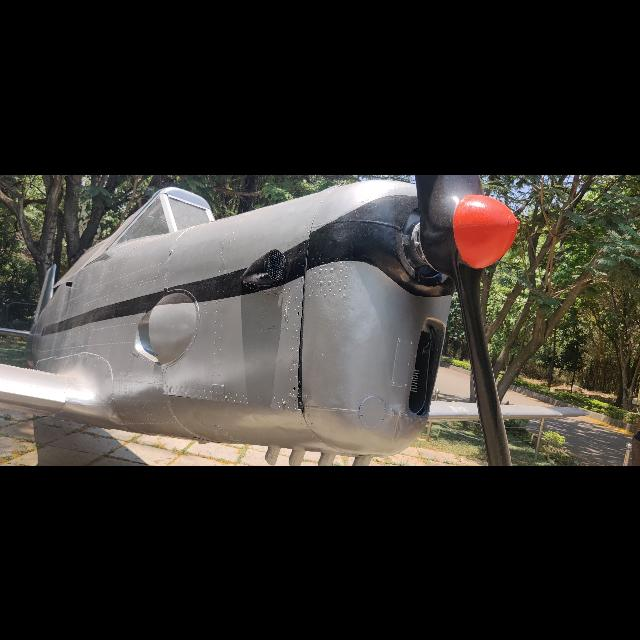dent: (386, 401, 409, 427)
